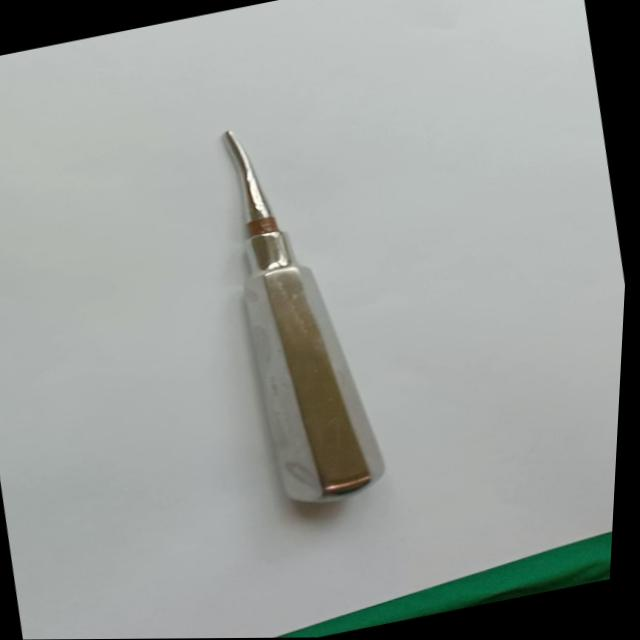Coupland1: (195, 101, 416, 517)
